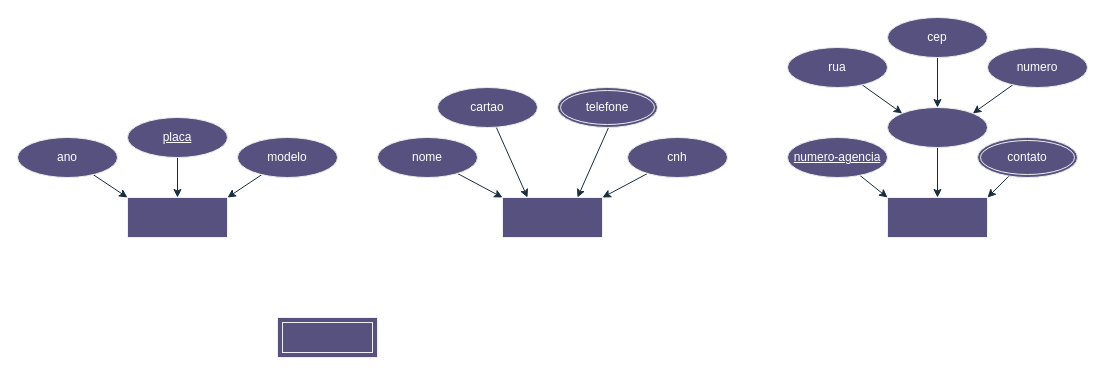
Image size: 1105x375. Some labels were removed from this diagram. Each missing label, with the centre of its shape:
AGENCIA: point 937,217
ALUGAR: point 327,337
CARRO: point 177,217
CLIENTE: point 552,217
endereço: point 937,127
